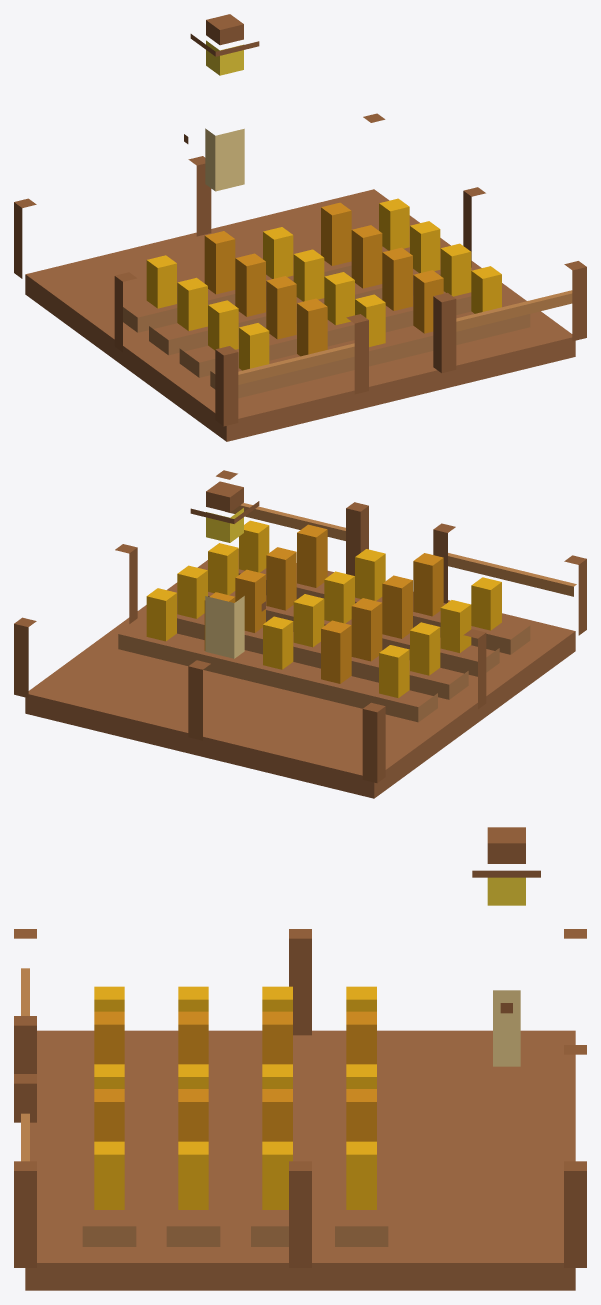
Rendered from field_t2_v1.glb.
3 renders of one model, top to bottom at view 1: azimuth 30°, elevation 25°; view 2: azimuth 150°, elevation 25°; view 3: azimuth 270°, elevation 25°, orthographic. The views are drawn at different scales.
Visible parts, largest first — view 1: field_t2_v1; view 2: field_t2_v1; view 3: field_t2_v1.
Part boxes in pixels (x1=…): field_t2_v1: x1=14, y1=14, x2=586, y2=441; field_t2_v1: x1=14, y1=470, x2=586, y2=798; field_t2_v1: x1=14, y1=827, x2=586, y2=1290.
Size of the model in its own units: 0.75 by 0.49 by 0.75.
Materials: 1 (1 with a texture image).
